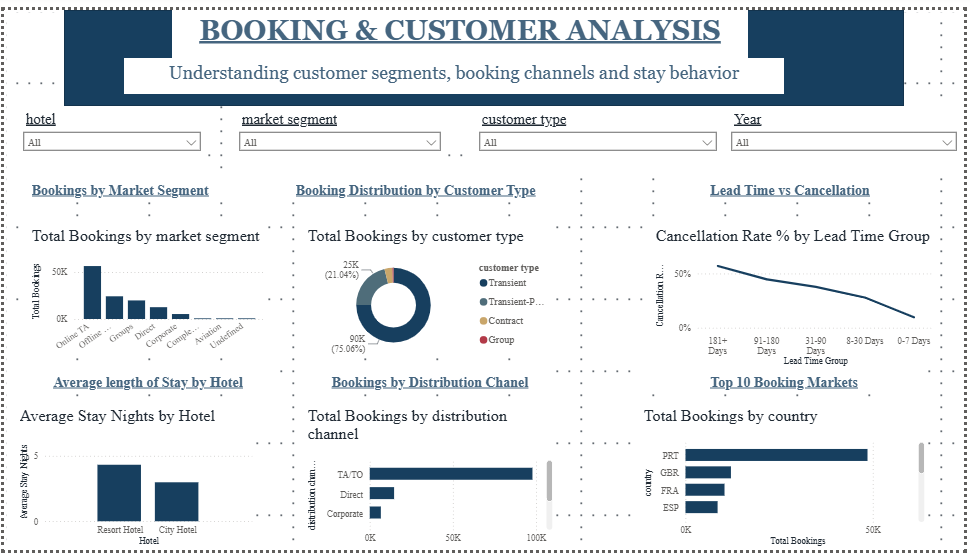

Layout of this report page (visuals, bound fields, positions):
{"tool":"powerbi","page":{"name":"BOOKING & CUSTOMER ANALYSIS","canvas":[1280,720],"ordinal":1},"visuals":[{"type":"shape","box":[1056,0,96,48],"z":0},{"type":"shape","box":[80,0,1120,128],"z":1000},{"type":"slicer","fields":{"Values":["FactHotelBookings.hotel"]},"box":[16,128,256,96],"z":2000},{"type":"textbox","box":[224,0,768,64],"z":3000},{"type":"slicer","fields":{"Values":["FactHotelBookings.Year"]},"box":[960,128,320,96],"z":4000},{"type":"textbox","box":[160,64,880,48],"z":5000},{"type":"slicer","fields":{"Values":["FactHotelBookings.market segment"]},"box":[304,128,288,96],"z":6000},{"type":"slicer","fields":{"Values":["FactHotelBookings.customer type"]},"box":[624,128,336,96],"z":7000},{"type":"clusteredColumnChart","fields":{"Category":["FactHotelBookings.market segment"],"Y":["FactHotelBookings.Total Bookings"]},"box":[32,288,320,176],"z":8000},{"type":"donutChart","fields":{"Category":["FactHotelBookings.customer type"],"Y":["FactHotelBookings.Total Bookings"]},"box":[400,288,336,176],"z":9000},{"type":"textbox","box":[16,480,352,32],"z":10000},{"type":"textbox","box":[384,224,352,32],"z":11000},{"type":"textbox","box":[32,224,288,32],"z":12000},{"type":"lineChart","fields":{"Category":["FactHotelBookings.Lead Time Group"],"Y":["FactHotelBookings.Cancellation Rate %"]},"box":[864,288,384,192],"z":13000},{"type":"textbox","box":[896,224,304,32],"z":14000},{"type":"textbox","box":[400,480,336,32],"z":15000},{"type":"textbox","box":[848,480,384,32],"z":16000},{"type":"clusteredColumnChart","fields":{"Category":["DimHotel.Hotel"],"Y":["FactHotelBookings.Average Stay Nights"]},"box":[16,528,320,192],"z":17000},{"type":"barChart","fields":{"Category":["FactHotelBookings.distribution channel"],"Y":["FactHotelBookings.Total Bookings"]},"box":[400,528,336,192],"z":18000},{"type":"clusteredBarChart","fields":{"Category":["FactHotelBookings.country"],"Y":["FactHotelBookings.Total Bookings"]},"box":[848,528,384,192],"z":19000}]}

Visuals, with their boxes in screenshot pixels (x1, y1, x2, y2), scaled from the page's 1280x720 canvas onto the 970x557 screenshot:
shape: box=[800, 0, 873, 37]
shape: box=[61, 0, 909, 99]
slicer - FactHotelBookings.hotel: box=[12, 99, 206, 173]
textbox: box=[170, 0, 752, 50]
slicer - FactHotelBookings.Year: box=[728, 99, 969, 173]
textbox: box=[121, 50, 788, 87]
slicer - FactHotelBookings.market segment: box=[230, 99, 449, 173]
slicer - FactHotelBookings.customer type: box=[473, 99, 728, 173]
clusteredColumnChart - FactHotelBookings.market segment x FactHotelBookings.Total Bookings: box=[24, 223, 267, 359]
donutChart - FactHotelBookings.customer type x FactHotelBookings.Total Bookings: box=[303, 223, 558, 359]
textbox: box=[12, 371, 279, 396]
textbox: box=[291, 173, 558, 198]
textbox: box=[24, 173, 242, 198]
lineChart - FactHotelBookings.Lead Time Group x FactHotelBookings.Cancellation Rate %: box=[655, 223, 946, 371]
textbox: box=[679, 173, 909, 198]
textbox: box=[303, 371, 558, 396]
textbox: box=[643, 371, 934, 396]
clusteredColumnChart - DimHotel.Hotel x FactHotelBookings.Average Stay Nights: box=[12, 408, 255, 556]
barChart - FactHotelBookings.distribution channel x FactHotelBookings.Total Bookings: box=[303, 408, 558, 556]
clusteredBarChart - FactHotelBookings.country x FactHotelBookings.Total Bookings: box=[643, 408, 934, 556]
